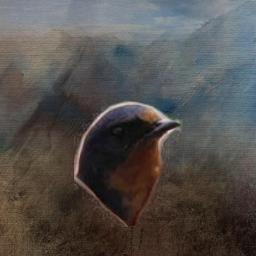Swallow: (74, 100, 183, 227)
